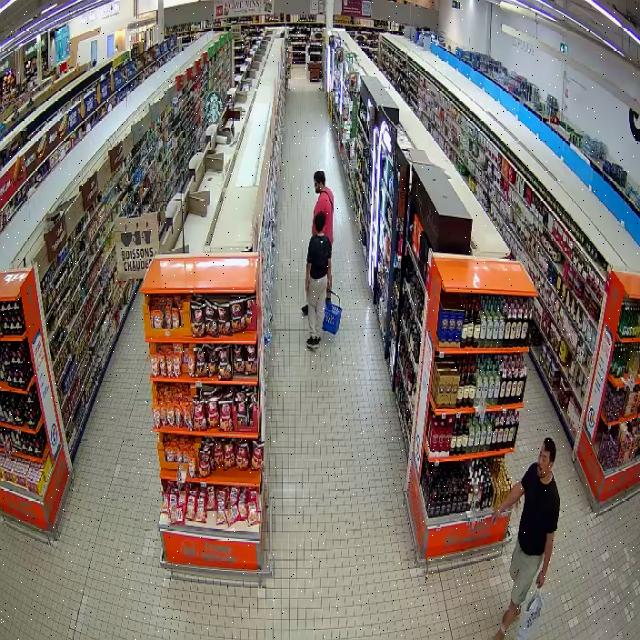hands: (492, 482, 523, 522), (536, 533, 554, 588), (325, 258, 331, 293), (306, 266, 310, 291)
person: (494, 438, 559, 639), (305, 211, 331, 349), (313, 170, 333, 243)
